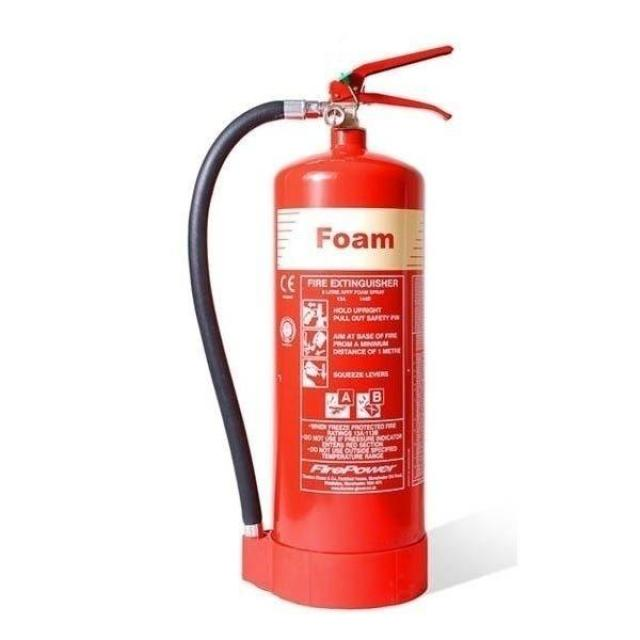fire_extinguisher: (177, 40, 457, 617)
